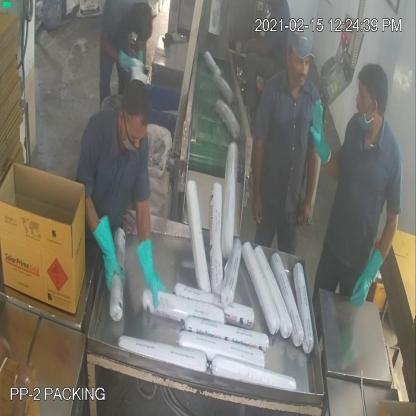glove: (344, 241, 387, 314), (92, 200, 121, 290), (134, 236, 167, 312), (311, 102, 334, 172)
no_glove: (301, 139, 324, 236), (248, 124, 266, 229), (236, 26, 274, 69), (98, 33, 120, 63)
